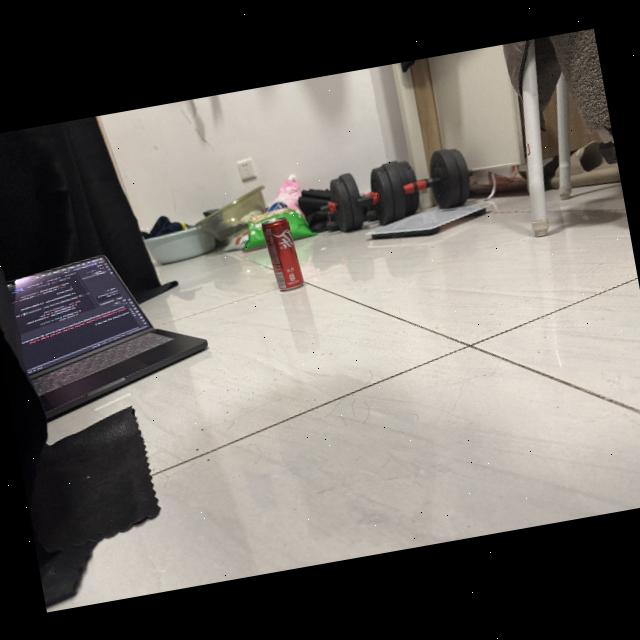Cola: (254, 210, 308, 298)
